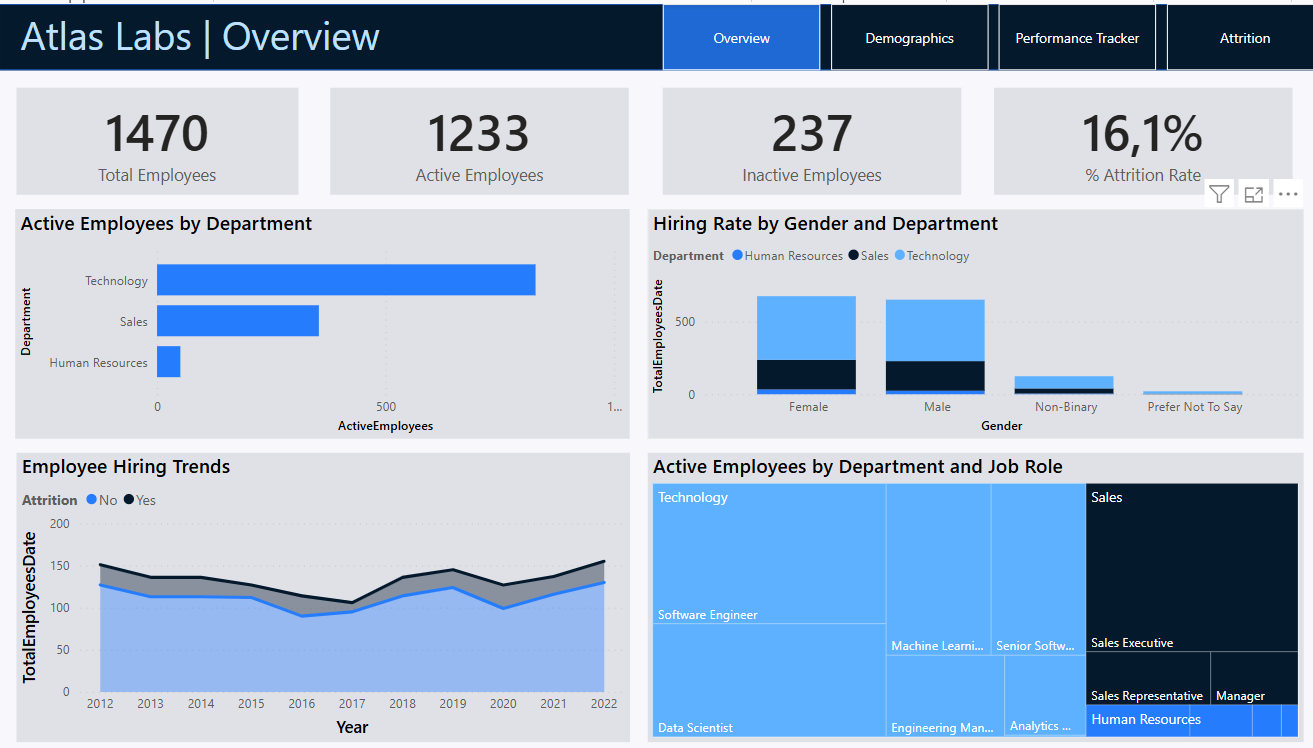

The dashboard page shown, as its layout file describes it:
{"tool":"powerbi","page":{"name":"Overview","canvas":[1280,720],"ordinal":0},"visuals":[{"type":"card","fields":{"Values":["_Measures.TotalEmployees"]},"box":[16.6,80.4,271.7,103.3],"z":0},{"type":"card","fields":{"Values":["_Measures.ActiveEmployees"]},"box":[320.1,80.4,288.2,103.3],"z":1000},{"type":"card","fields":{"Values":["_Measures.InactiveEmployees"]},"box":[640.3,80.4,288.2,103.3],"z":2000},{"type":"card","fields":{"Values":["_Measures.% Attrition Rate"]},"box":[960.4,80.4,288.2,103.3],"z":3000},{"type":"clusteredBarChart","title":"Active Employees by Department","fields":{"Category":["DimEmployee.Department"],"Y":["_Measures.ActiveEmployees"]},"box":[15.3,197.7,593.1,221.9],"z":4000},{"type":"treemap","title":"Active Employees by Department and Job Role","fields":{"Values":["_Measures.ActiveEmployees"],"Group":["DimEmployee.Department"],"Details":["DimEmployee.JobRole"]},"box":[626.2,432.4,632.6,279.3],"z":5000},{"type":"shape","box":[0,0,1280,64],"z":6000},{"type":"textbox","box":[16,0,448,64],"z":7000},{"type":"pageNavigator","box":[640,0,640,64],"z":8000},{"type":"stackedAreaChart","title":"Employee Hiring Trends","fields":{"Category":["DimDate.Date.Variation.Date Hierarchy.Year","DimDate.Date.Variation.Date Hierarchy.Quarter","DimDate.Date.Variation.Date Hierarchy.Month","DimDate.Date.Variation.Date Hierarchy.Day"],"Y":["_Measures.TotalEmployeesDate"],"Series":["DimEmployee.Attrition"]},"box":[16.6,432.4,591.8,279.3],"z":9000},{"type":"columnChart","title":"Hiring Rate by Gender and Department ","fields":{"Category":["DimEmployee.Gender"],"Series":["DimEmployee.Department"],"Y":["_Measures.TotalEmployeesDate"]},"box":[626.2,197.7,632.6,221.9],"z":10000}]}

Visuals, with their boxes in screenshot pixels (x1, y1, x2, y2), scaled from the page's 1280x720 canvas onto the 1313x748 screenshot:
card - _Measures.TotalEmployees: left=17, top=84, right=296, bottom=191
card - _Measures.ActiveEmployees: left=328, top=84, right=624, bottom=191
card - _Measures.InactiveEmployees: left=657, top=84, right=952, bottom=191
card - _Measures.% Attrition Rate: left=985, top=84, right=1281, bottom=191
"Active Employees by Department" clusteredBarChart: left=16, top=205, right=624, bottom=436
"Active Employees by Department and Job Role" treemap: left=642, top=449, right=1291, bottom=739
shape: left=0, top=0, right=1312, bottom=66
textbox: left=16, top=0, right=476, bottom=66
pageNavigator: left=656, top=0, right=1312, bottom=66
"Employee Hiring Trends" stackedAreaChart: left=17, top=449, right=624, bottom=739
"Hiring Rate by Gender and Department " columnChart: left=642, top=205, right=1291, bottom=436
